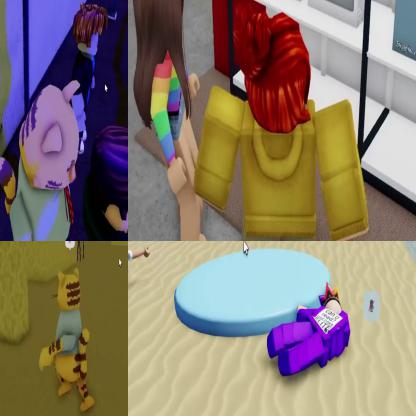Roblox-Avatar: (194, 3, 372, 241), (133, 1, 209, 241), (1, 80, 82, 241), (268, 282, 352, 378), (40, 269, 95, 412), (74, 118, 128, 241), (74, 4, 109, 156), (108, 1, 128, 21)
